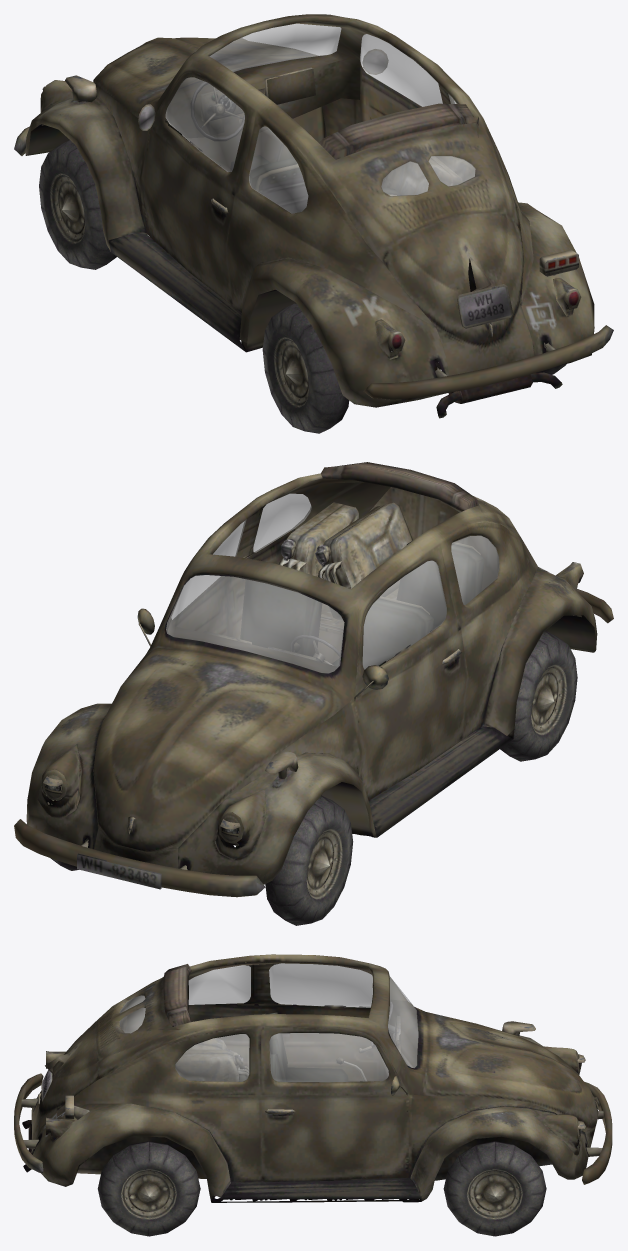
The picture shows the model from 3 angles, top to bottom: view 1: azimuth 30°, elevation 25°; view 2: azimuth 150°, elevation 25°; view 3: azimuth 270°, elevation 25°; orthographic projection. The views are drawn at different scales.
Visible parts, largest first — view 1: Material2, Material2.002, Material2.003; view 2: Material2, Material2.003, Material2.002; view 3: Material2, Material2.002, Material2.003.
Boxes of the visible parts, x1,y1,x2,y2 form: Material2: (14, 14, 613, 433); Material2.002: (165, 34, 475, 213); Material2.003: (209, 23, 341, 71); Material2: (14, 462, 613, 925); Material2.003: (166, 575, 344, 673); Material2.002: (213, 493, 499, 669); Material2: (14, 954, 612, 1236); Material2.002: (119, 963, 388, 1082); Material2.003: (388, 976, 418, 1068).
Size of the model in its own units: 1668 by 1631 by 4214.
Materials: 3 (1 with a texture image).
